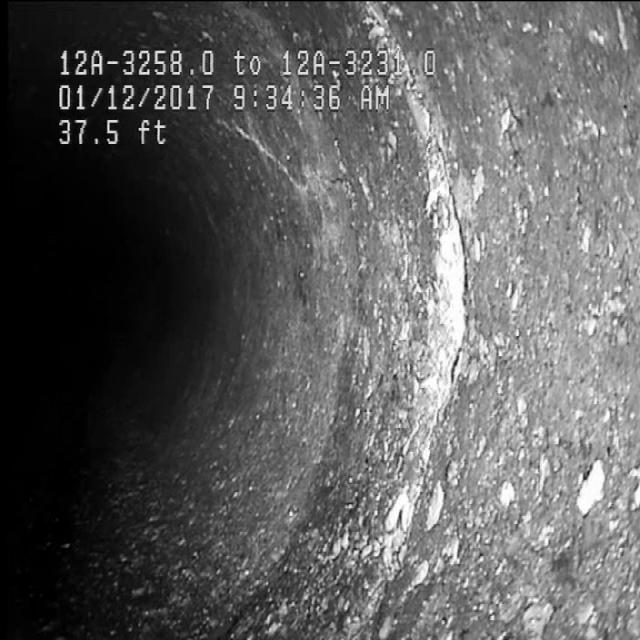Crack: (226, 108, 324, 206)
